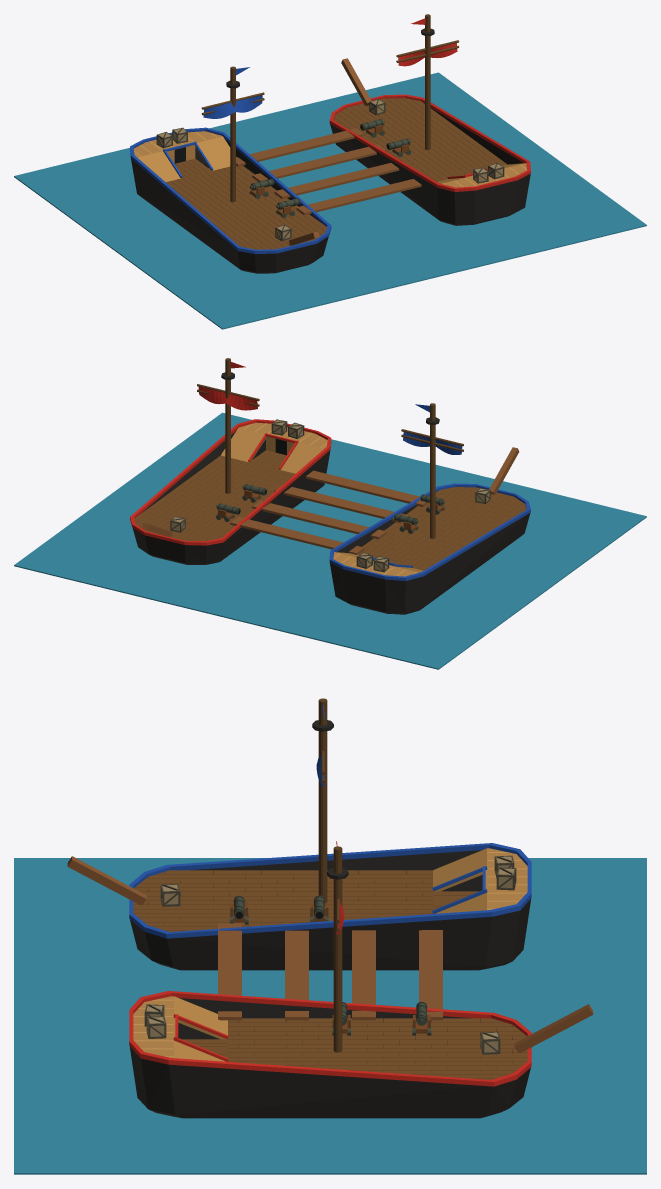
File: PirateShips_Map.fbx
The picture shows the model from 3 angles, top to bottom: view 1: azimuth 30°, elevation 25°; view 2: azimuth 150°, elevation 25°; view 3: azimuth 270°, elevation 25°; orthographic projection. The views are drawn at different scales.
Parts seen in each view (by area): view 1: Ocean_Surface, Red_Hull_OpenShell, Blue_Hull_OpenShell, Blue_Painted_Gunwale, Red_Painted_Gunwale, Bridge_Plank_01, Bridge_Plank_02, Bridge_Plank_03, Bridge_Plank_04, Blue_Stern_Ramp_1, Red_Mast, Blue_Mast (+5 smaller); view 2: Ocean_Surface, Blue_Hull_OpenShell, Red_Hull_OpenShell, Red_Painted_Gunwale, Blue_Painted_Gunwale, Bridge_Plank_03, Bridge_Plank_01, Bridge_Plank_04, Bridge_Plank_02, Red_Stern_Ramp_-1, Blue_Mast, Red_Mast (+5 smaller); view 3: Ocean_Surface, Red_Hull_OpenShell, Blue_Hull_OpenShell, Red_Painted_Gunwale, Blue_Painted_Gunwale, Bridge_Plank_03, Bridge_Plank_04, Bridge_Plank_01, Bridge_Plank_02, Red_Mast, Blue_Mast, Blue_Stern_RaisedDeck (+5 smaller).
Part boxes in pixels (<box>): Ocean_Surface: <box>14,72,646,329</box>; Red_Hull_OpenShell: <box>330,108,530,225</box>; Blue_Hull_OpenShell: <box>131,139,328,273</box>; Blue_Painted_Gunwale: <box>130,127,331,253</box>; Red_Painted_Gunwale: <box>329,94,530,191</box>; Bridge_Plank_01: <box>296,179,421,215</box>; Bridge_Plank_02: <box>274,163,399,198</box>; Bridge_Plank_03: <box>252,144,386,181</box>; Bridge_Plank_04: <box>236,128,364,166</box>; Blue_Stern_Ramp_1: <box>195,136,236,170</box>; Red_Mast: <box>425,14,430,149</box>; Blue_Mast: <box>230,66,235,202</box>; Ocean_Surface: <box>14,412,646,669</box>; Blue_Hull_OpenShell: <box>330,505,530,614</box>; Red_Hull_OpenShell: <box>132,430,330,564</box>; Red_Painted_Gunwale: <box>130,419,331,545</box>; Blue_Painted_Gunwale: <box>329,483,530,580</box>; Bridge_Plank_03: <box>252,500,386,539</box>; Bridge_Plank_01: <box>305,470,428,506</box>; Bridge_Plank_04: <box>230,517,364,554</box>; Bridge_Plank_02: <box>274,484,408,523</box>; Red_Stern_Ramp_-1: <box>221,428,265,462</box>; Blue_Mast: <box>430,403,435,538</box>; Red_Mast: <box>225,358,230,493</box>; Ocean_Surface: <box>14,858,646,1174</box>; Red_Hull_OpenShell: <box>129,998,530,1118</box>; Blue_Hull_OpenShell: <box>130,850,531,970</box>; Red_Painted_Gunwale: <box>129,991,531,1086</box>; Blue_Painted_Gunwale: <box>129,843,531,938</box>; Bridge_Plank_03: <box>352,930,375,1020</box>; Bridge_Plank_04: <box>419,930,442,1020</box>; Bridge_Plank_01: <box>218,923,241,1020</box>; Bridge_Plank_02: <box>285,923,308,1020</box>; Red_Mast: <box>333,846,342,1052</box>; Blue_Mast: <box>318,698,327,903</box>; Blue_Stern_RaisedDeck: <box>487,848,527,910</box>.
Bounding box in the file's own units: 40 × 14.99 × 34.
